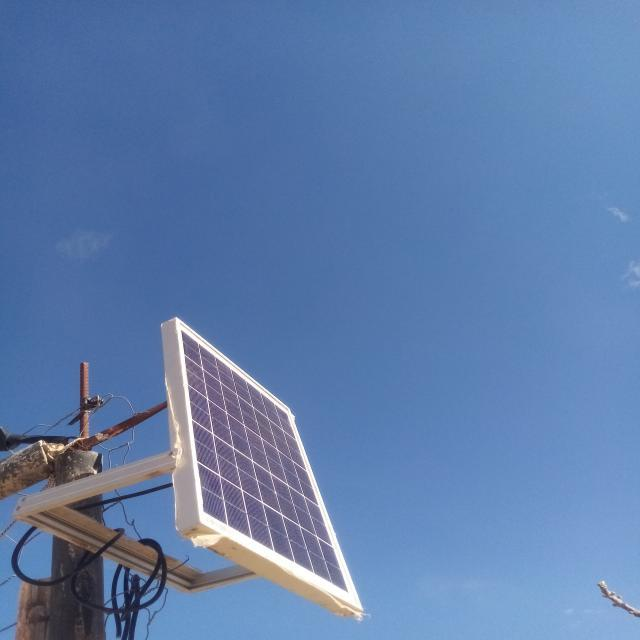no faulty: (175, 318, 363, 611)
